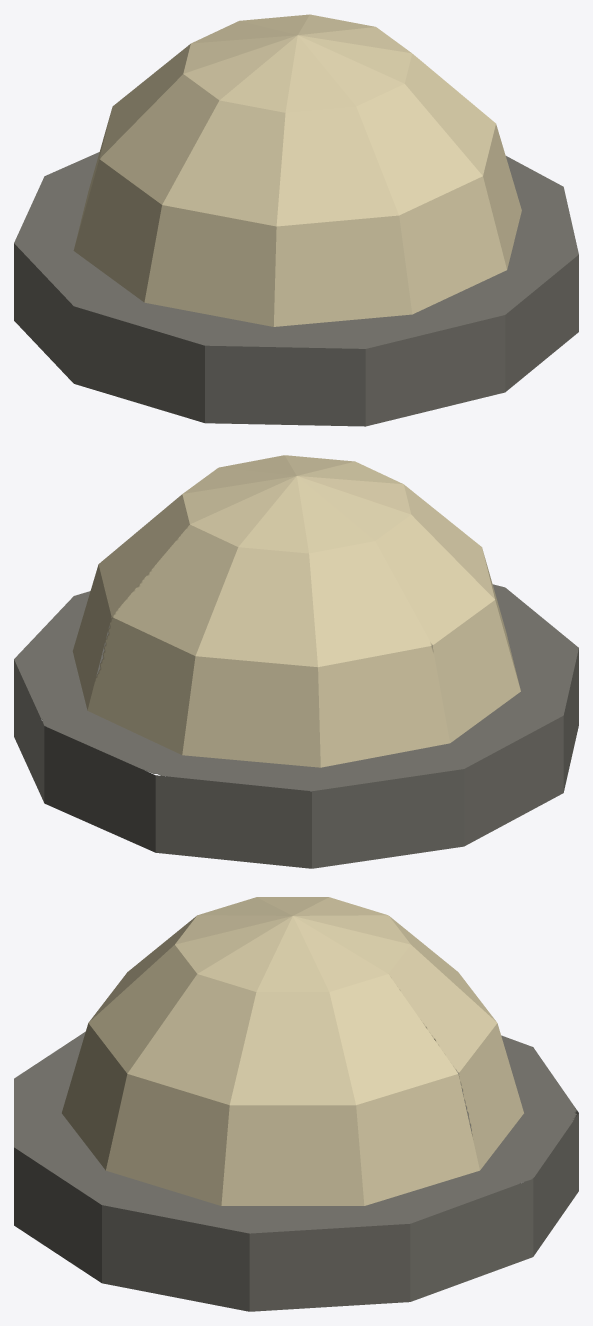
The model's file is roundLight.obj.
The picture shows the model from 3 angles, top to bottom: view 1: azimuth 30°, elevation 25°; view 2: azimuth 150°, elevation 25°; view 3: azimuth 270°, elevation 25°; orthographic projection.
Parts seen in each view (by area): view 1: Sphere.001, Cylinder.002; view 2: Sphere.001, Cylinder.002; view 3: Sphere.001, Cylinder.002.
Boxes of the visible parts, box(x1,y1,x2,y2) form: Sphere.001: box(73, 14, 521, 326); Cylinder.002: box(14, 152, 578, 426); Sphere.001: box(72, 455, 520, 767); Cylinder.002: box(14, 584, 578, 868); Sphere.001: box(62, 897, 523, 1205); Cylinder.002: box(14, 1031, 578, 1311).
Size of the model in its own units: 1.36 by 0.7243 by 1.35.
2 materials, 2 textured.
